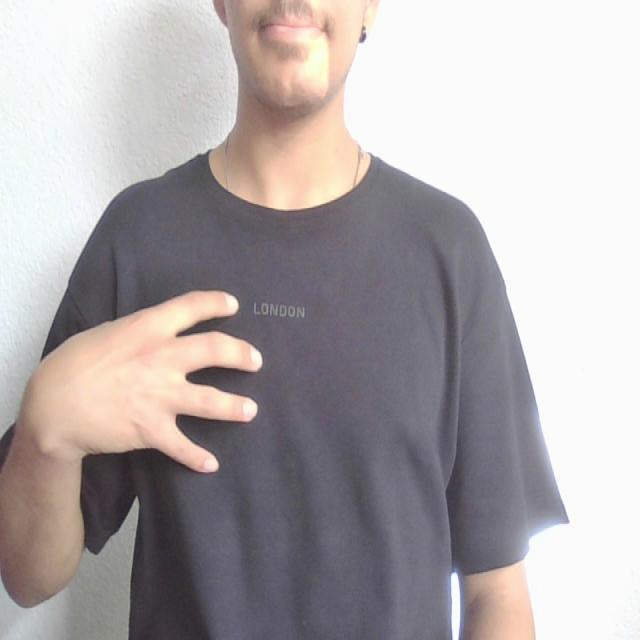Anne: (23, 274, 519, 483)
